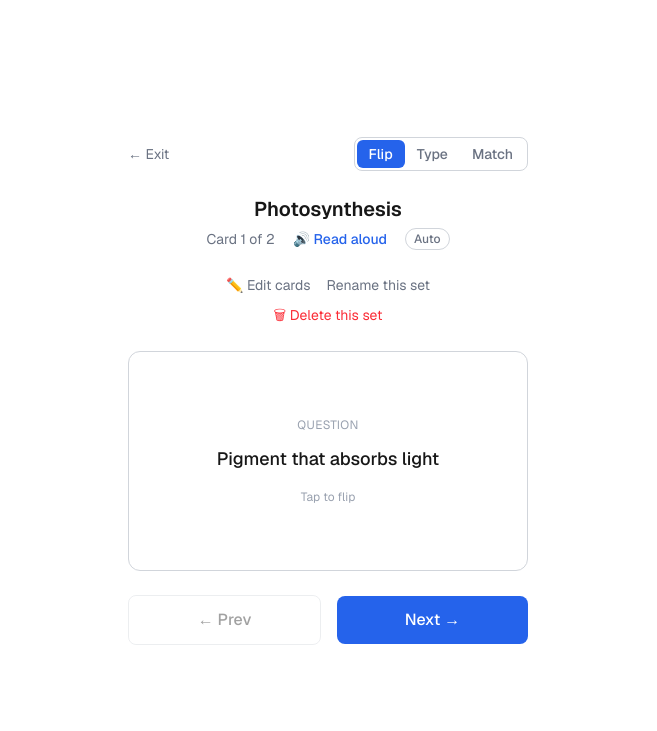
Test: where a saved card came from › keeps the quote of a card the owner did not rewrite
The image size is (657, 731).
Click the button "✏️ Edit cards" at (268, 285), box x1=226 y1=275 x2=310 y2=295
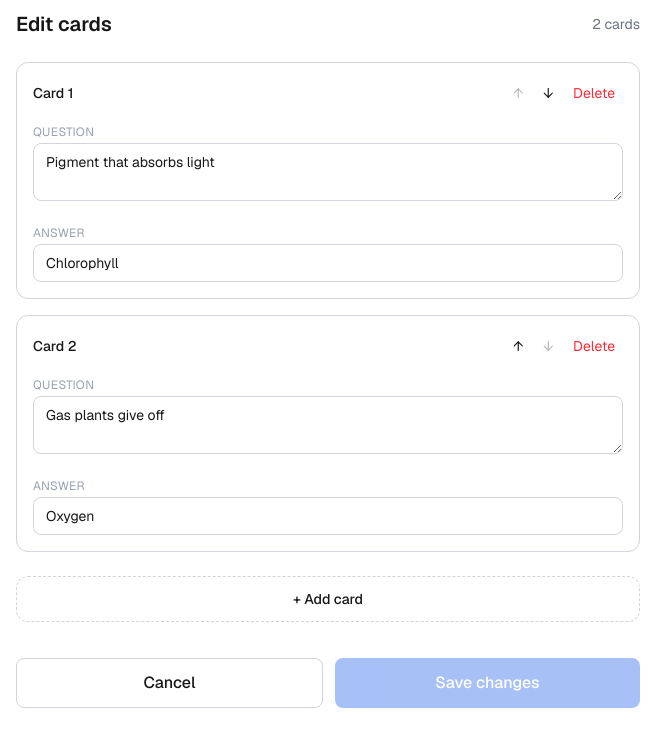
Replace the text in the text box labelled "Question" below "Card 2" with "Gas that plants give off" at (328, 425), box x1=33 y1=396 x2=623 y2=454
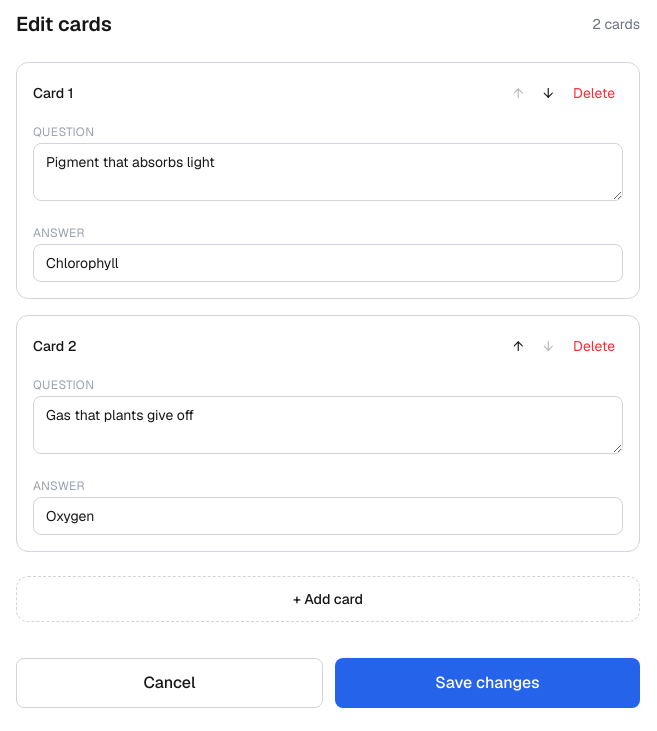
Click the button "Save changes" at (488, 683), box x1=335 y1=658 x2=640 y2=708
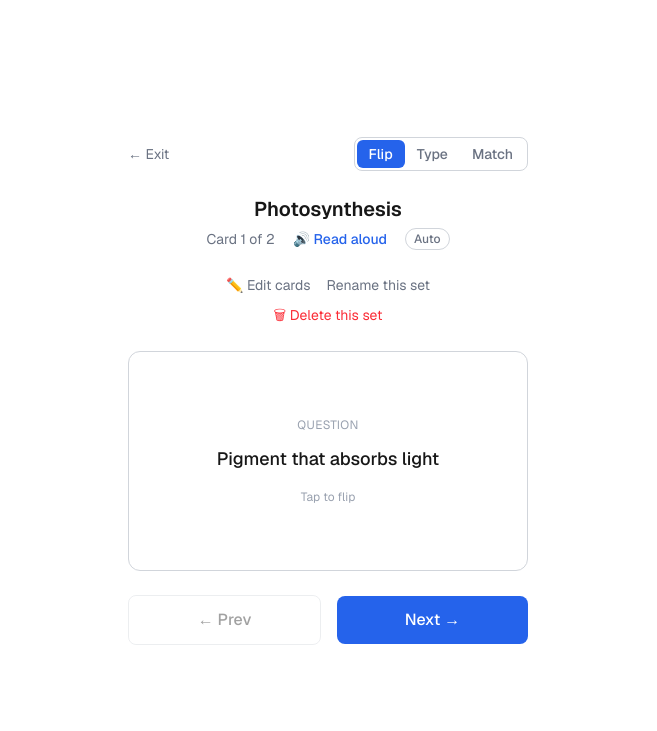
Expected: the text "Pigment that absorbs light" is shown, x1=217 y1=445 x2=439 y2=473
Click the button "Question Pigment that absorbs light Tap to flip" at (328, 461), box x1=128 y1=351 x2=528 y2=571
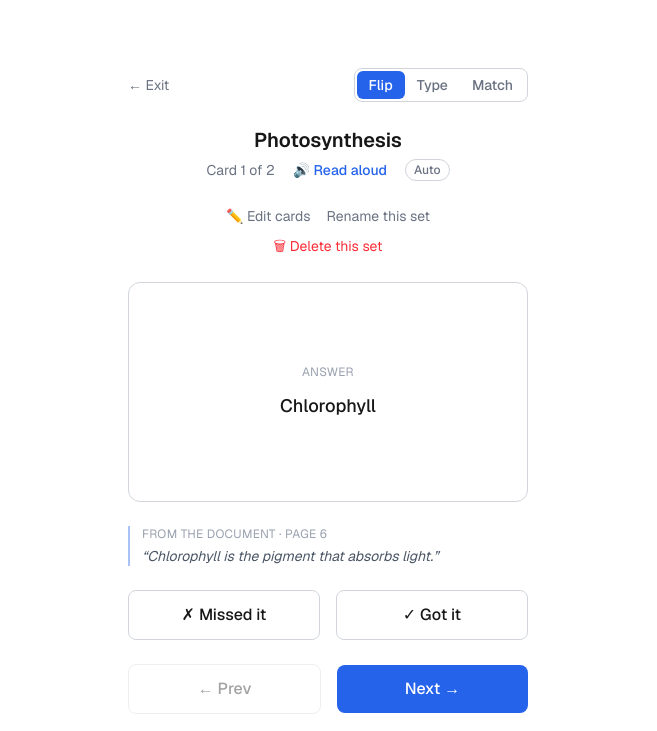
Expected: the text "From the document · Page 6" is shown, x1=142 y1=526 x2=327 y2=542
